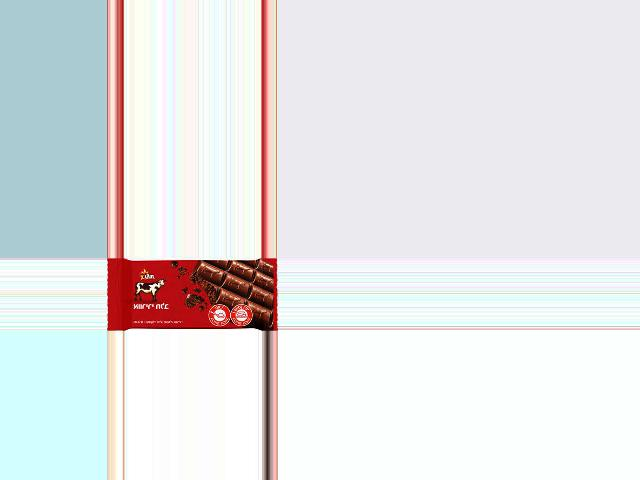chocolate: (106, 259, 275, 330)
